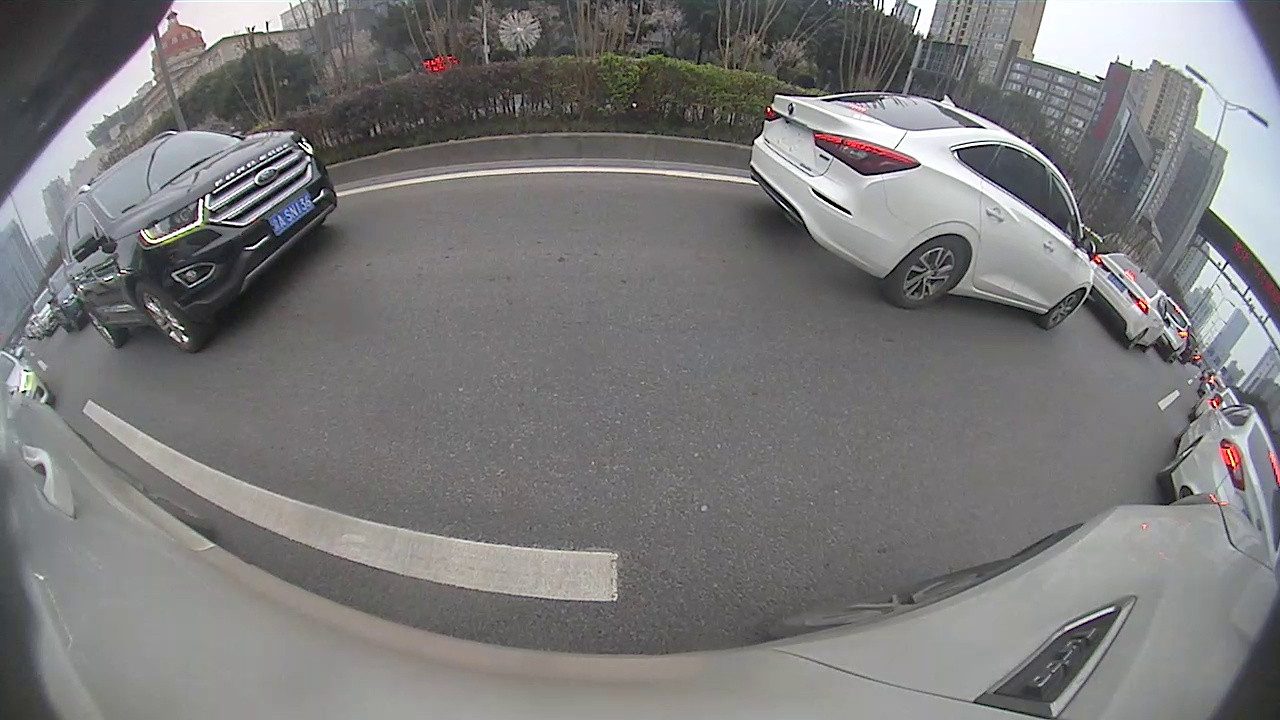car: (748, 89, 1099, 331), (61, 127, 339, 357), (1155, 388, 1279, 570), (1088, 250, 1173, 353)
front: (136, 281, 199, 353), (1042, 288, 1084, 330)
rear: (887, 239, 970, 310), (85, 302, 119, 348)
